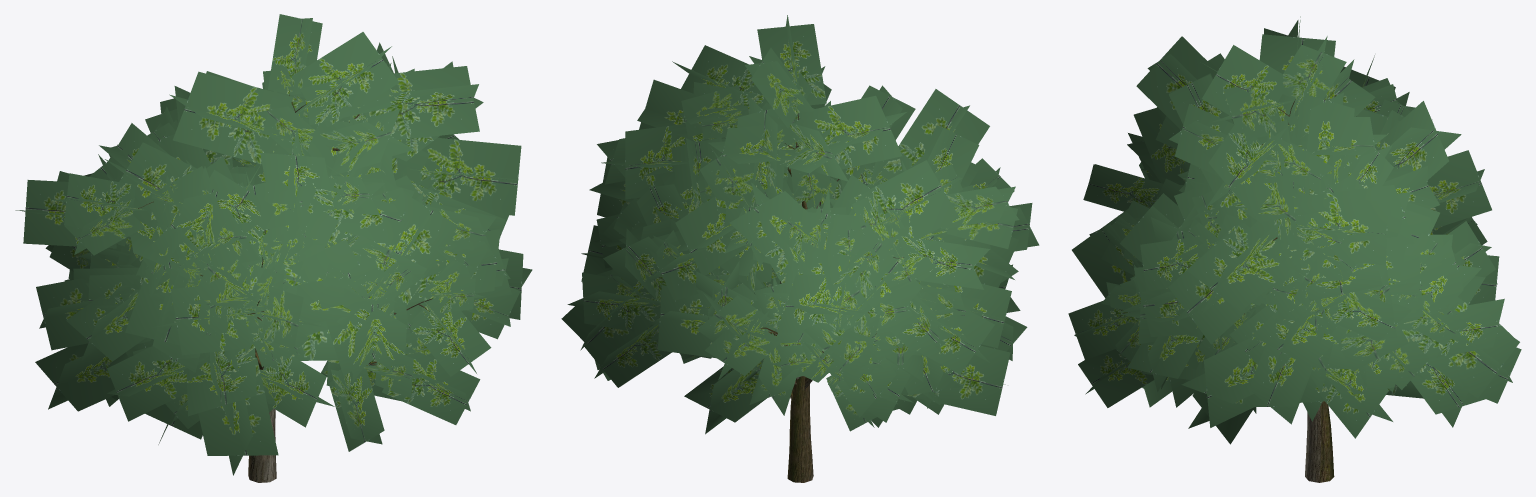
The model's file is ash-terraintale-cc0.glb.
The picture shows the model from 3 angles, left to right: view 1: azimuth 30°, elevation 25°; view 2: azimuth 150°, elevation 25°; view 3: azimuth 270°, elevation 25°; orthographic projection. The views are drawn at different scales.
Visible parts, largest first — view 1: ash_tree_large; view 2: ash_tree_large; view 3: ash_tree_large.
Part boxes in pixels (bbox=[...]): ash_tree_large: bbox=[15, 14, 532, 482]; ash_tree_large: bbox=[561, 15, 1039, 482]; ash_tree_large: bbox=[1068, 16, 1521, 482].
Bounding box in the file's own units: 6.39 × 6.33 × 5.66.
2 materials, 2 textured.
